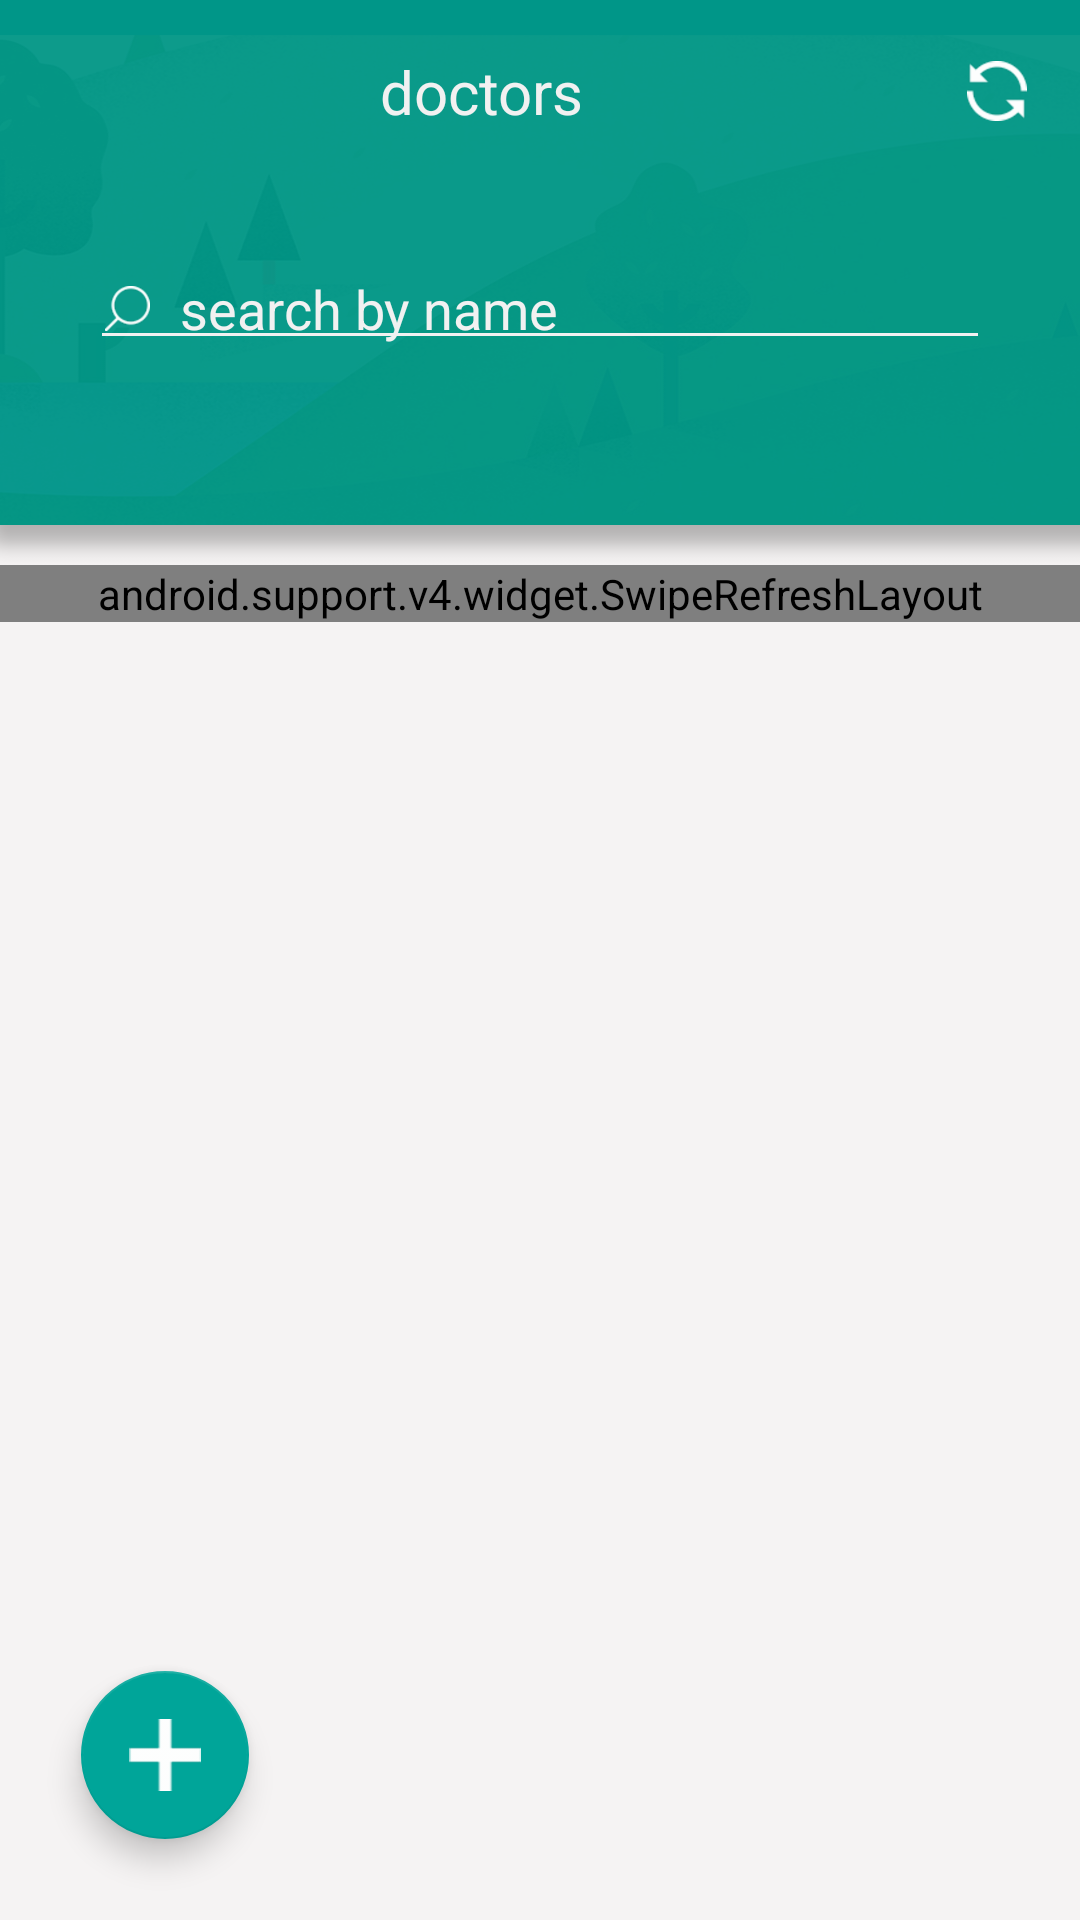

Screen size 1080×1920. Icon name, then its box in pixels as Rect(x1, y1, x2, y2):
plus: Rect(81, 1671, 249, 1839)
refresh: Rect(967, 61, 1027, 121)
